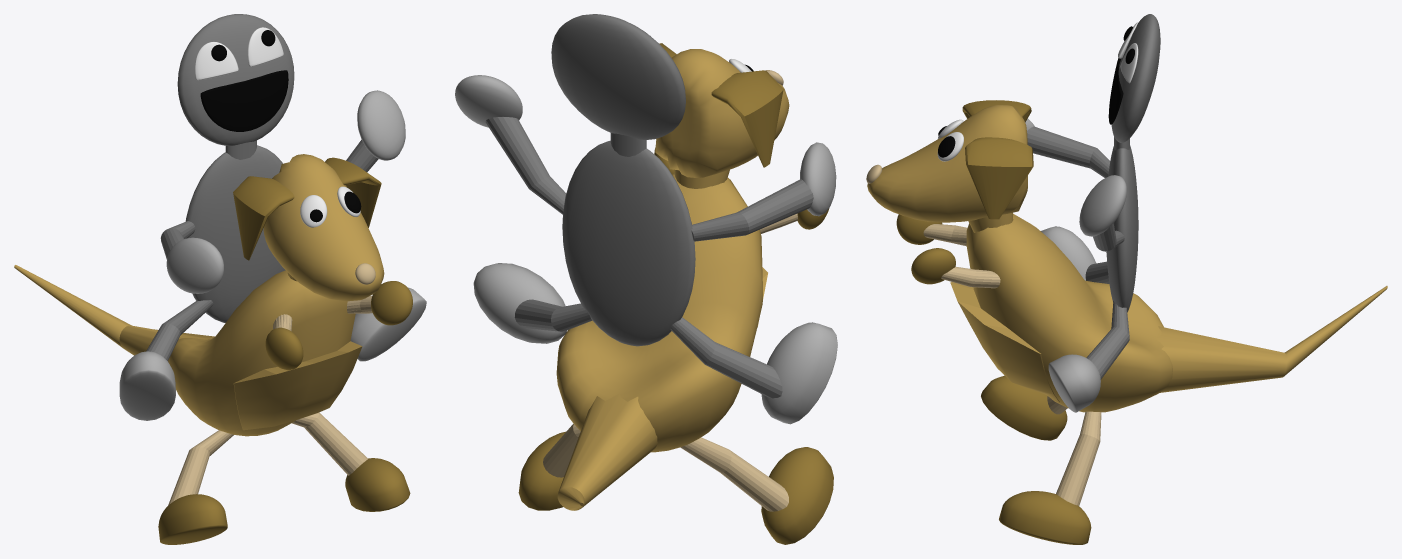
The model's file is kangarooUp.fbx.
The picture shows the model from 3 angles, left to right: view 1: azimuth 30°, elevation 25°; view 2: azimuth 150°, elevation 25°; view 3: azimuth 270°, elevation 25°; orthographic projection. The views are drawn at different scales.
Visible parts, largest first — view 1: pasted__pasted__pSphere7, pSphere3, pSphere8, pSphere9, pasted__pasted__pSphere10, pSphere1, pasted__pSphere1, pasted__pasted__pCylinder6, pasted__pSphere1_ncl1_1, pasted__pasted__pSphere7_ncl1_1, pasted__pCylinder4, pasted__pSphere7_ncl1_1 (+12 smaller); view 2: pasted__pasted__pSphere7, pSphere8, pSphere9, pSphere3, pasted__pasted__pCylinder6, pSphere1, pasted__pSphere1, pasted__pSphere1_ncl1_2, pasted__pCylinder4, pasted__pasted__pCylinder5_ncl1_3, pasted__pasted__pCylinder5_ncl1_2, pasted__pasted__pasted__pCylinder1 (+8 smaller); view 3: pasted__pasted__pSphere7, pSphere3, pasted__pasted__pCylinder6, pCylinder4, pasted__pSphere1_ncl1_1, pSphere8, pSphere9, pasted__pSphere1, pasted__pSphere1_ncl1_2, pasted__pasted__pCylinder5, pasted__pasted__pCylinder5_ncl1_3, pasted__pasted__pSphere7_ncl1_1 (+7 smaller).
Part boxes in pixels (<box>): pasted__pasted__pSphere7: <box>168,270,362,436</box>; pSphere3: <box>263,154,384,301</box>; pSphere8: <box>185,145,285,322</box>; pSphere9: <box>177,14,294,145</box>; pasted__pasted__pSphere10: <box>200,70,288,131</box>; pSphere1: <box>119,351,175,420</box>; pasted__pSphere1: <box>158,494,227,544</box>; pasted__pasted__pCylinder6: <box>14,265,214,362</box>; pasted__pSphere1_ncl1_1: <box>345,458,410,511</box>; pasted__pasted__pSphere7_ncl1_1: <box>357,90,405,160</box>; pasted__pCylinder4: <box>233,176,294,260</box>; pasted__pSphere7_ncl1_1: <box>166,237,223,293</box>; pasted__pasted__pSphere7: <box>556,173,767,452</box>; pSphere8: <box>562,140,695,346</box>; pSphere9: <box>551,14,685,139</box>; pSphere3: <box>655,49,789,177</box>; pasted__pasted__pCylinder6: <box>557,393,657,510</box>; pSphere1: <box>761,322,837,424</box>; pasted__pSphere1: <box>761,447,833,544</box>; pasted__pSphere1_ncl1_2: <box>473,263,567,343</box>; pasted__pCylinder4: <box>711,70,783,167</box>; pasted__pasted__pCylinder5_ncl1_3: <box>691,179,813,241</box>; pasted__pasted__pCylinder5_ncl1_2: <box>670,317,782,398</box>; pasted__pasted__pasted__pCylinder1: <box>680,437,788,511</box>; pasted__pasted__pSphere7: <box>950,213,1172,412</box>; pSphere3: <box>867,105,1027,222</box>; pasted__pasted__pCylinder6: <box>1155,286,1387,392</box>; pCylinder4: <box>965,137,1033,219</box>; pasted__pSphere1_ncl1_1: <box>999,491,1091,544</box>; pSphere8: <box>1106,145,1138,312</box>; pSphere9: <box>1111,14,1160,142</box>; pasted__pSphere1: <box>981,375,1067,440</box>; pasted__pSphere1_ncl1_2: <box>1048,354,1100,412</box>; pasted__pasted__pCylinder5: <box>1056,411,1101,505</box>; pasted__pasted__pCylinder5_ncl1_3: <box>1027,126,1110,177</box>; pasted__pasted__pSphere7_ncl1_1: <box>1079,175,1126,236</box>.
Bounding box in the file's own units: 16.51 × 24.59 × 24.44.
